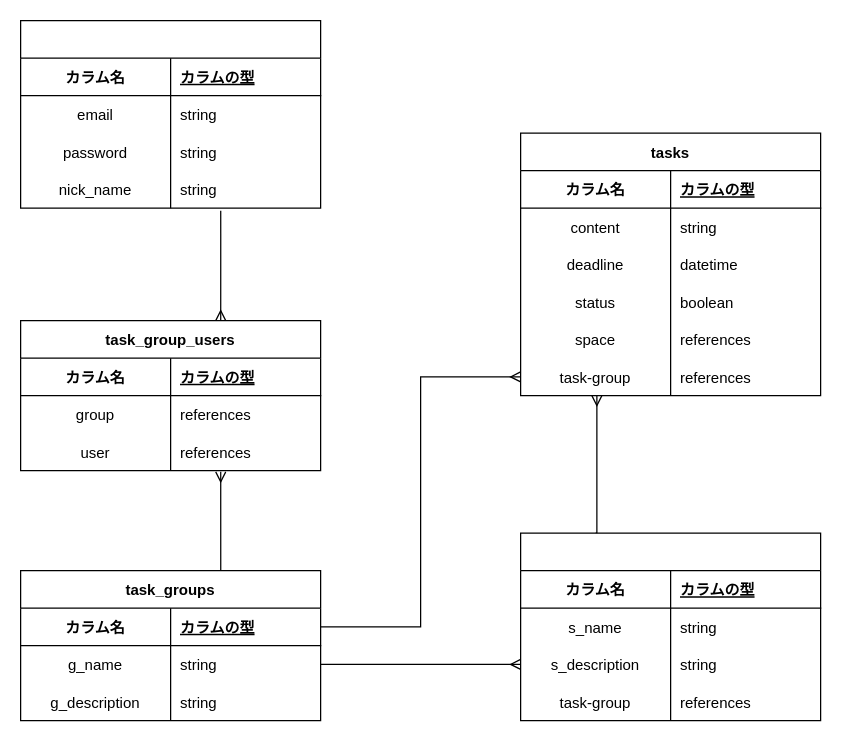
Some shapes in this 841 by 741 pixel diagram are drawn without their labels. Each missing label, with the box of its shape:
spaces: (519, 532, 821, 721)
users: (19, 19, 321, 208)
